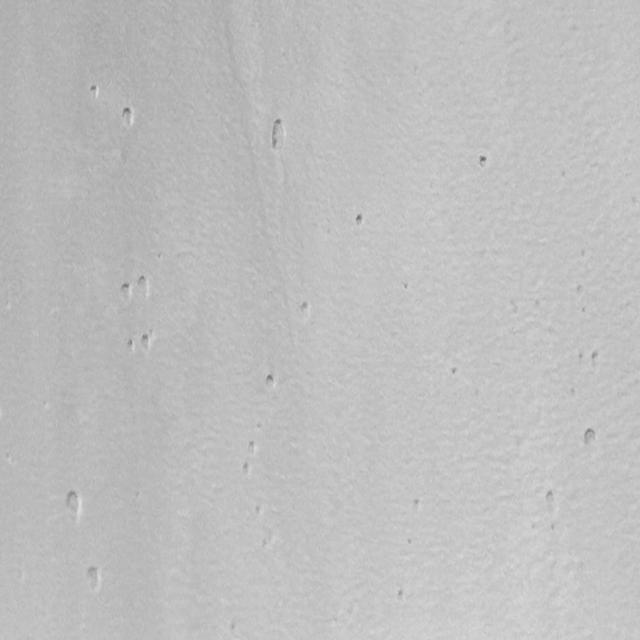pin holes: (266, 115, 289, 152), (62, 487, 85, 520), (83, 563, 104, 595), (541, 488, 561, 514), (581, 424, 600, 451), (135, 274, 154, 299), (122, 106, 140, 130), (119, 278, 136, 302), (296, 299, 314, 321), (263, 372, 280, 393), (86, 81, 103, 102), (138, 331, 154, 352), (225, 618, 242, 637), (588, 349, 604, 369), (354, 212, 369, 233), (394, 586, 411, 604), (476, 154, 492, 171), (409, 498, 424, 514), (573, 283, 587, 300), (246, 438, 259, 456), (124, 338, 137, 354), (240, 462, 252, 478), (448, 364, 460, 380), (576, 348, 588, 364), (254, 504, 266, 520)
